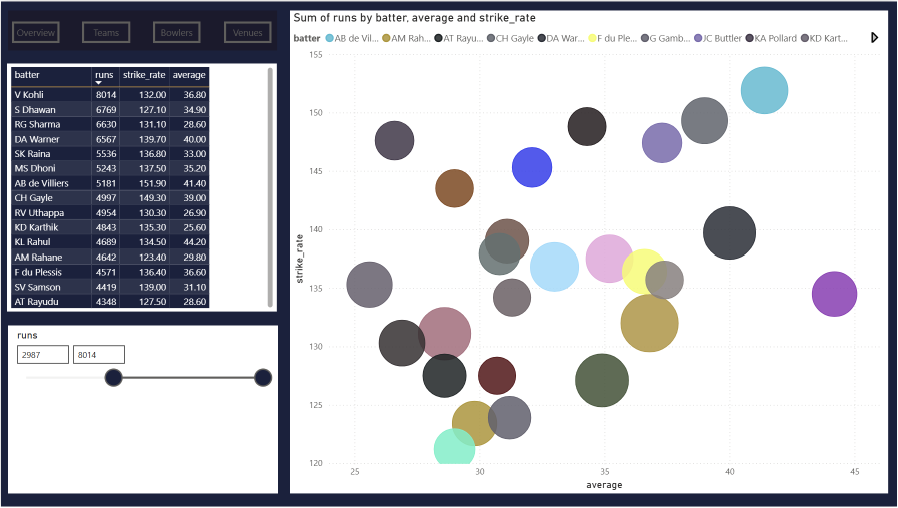

Layout of this report page (visuals, bound fields, positions):
{"tool":"powerbi","page":{"name":"Batsmen","canvas":[1280,720],"ordinal":2},"visuals":[{"type":"textbox","box":[10,12.9,384.3,57.1],"z":0,"group":"g1"},{"type":"tableEx","fields":{"Values":["Batters.batter","Batters.runs","Batters.strike_rate","Batters.average"]},"box":[8.6,88.6,385.7,352.9],"z":0},{"type":"scatterChart","fields":{"X":["Batters.average"],"Y":["Batters.strike_rate"],"Size":["Sum(Batters.runs)"],"Series":["Batters.batter"]},"box":[412.9,12.9,854.3,688.6],"z":1000},{"type":"actionButton","box":[15.5,28.3,67.9,30.8],"z":1000,"group":"g1"},{"type":"actionButton","box":[317.9,29,67.9,30.8],"z":2000,"group":"g1"},{"type":"slicer","fields":{"Values":["Batters.runs"]},"box":[10,461.4,385.7,240],"z":2000},{"type":"group","id":"g1","title":"Group 1","box":[10,12.9,384.3,57.1],"z":2006},{"type":"actionButton","box":[115.9,29,69.1,30.8],"z":3000,"group":"g1"},{"type":"actionButton","box":[217.5,29,67.9,30.8],"z":4000,"group":"g1"}]}

Visuals, with their boxes in screenshot pixels (x1, y1, x2, y2), scaled from the page's 1280x720 canvas onto the 898x508 screenshot:
textbox: left=7, top=9, right=277, bottom=49
tableEx - Batters.batter x Batters.runs: left=6, top=63, right=277, bottom=312
scatterChart - Batters.average x Batters.strike_rate: left=290, top=9, right=889, bottom=495
actionButton: left=11, top=20, right=59, bottom=42
actionButton: left=223, top=20, right=271, bottom=42
slicer - Batters.runs: left=7, top=326, right=278, bottom=495
"Group 1" group: left=7, top=9, right=277, bottom=49
actionButton: left=81, top=20, right=130, bottom=42
actionButton: left=153, top=20, right=200, bottom=42
